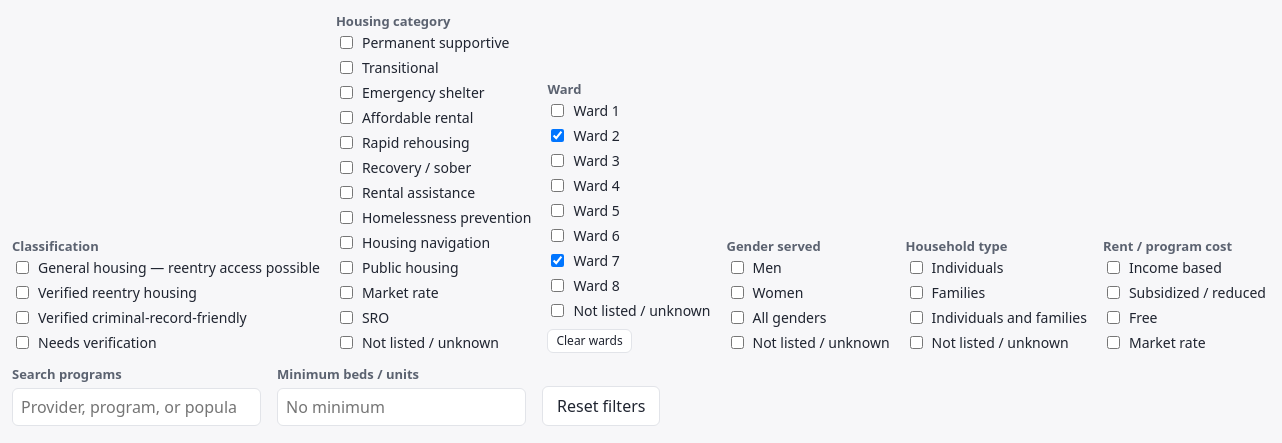
Test: FilterPanel › checkbox commits › clear-wards deselects every ward and commits the empty selection
The width and height of the screenshot is (1282, 443).
Step 1. Click the button "Clear wards" → (590, 340), box [547, 328, 632, 352]
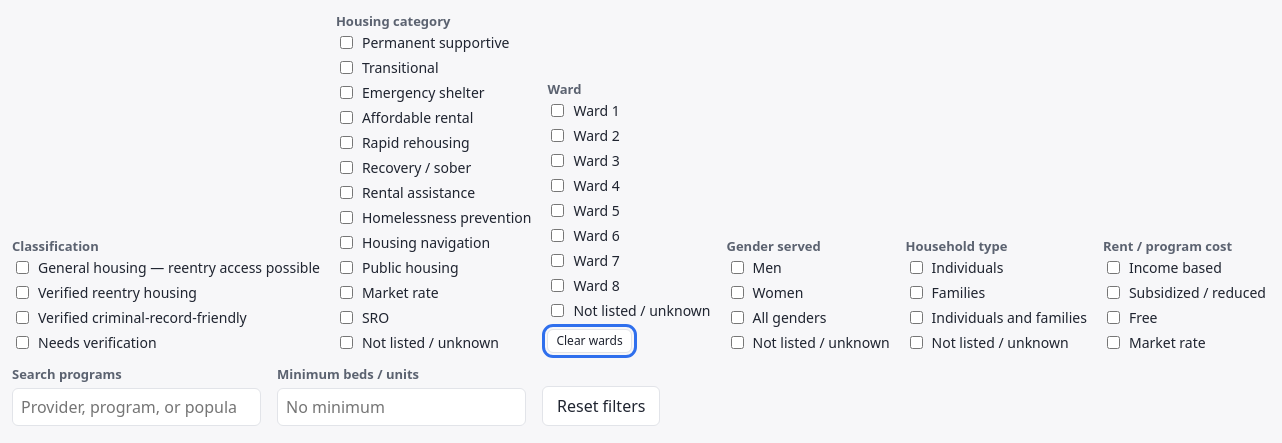
expect the checkbox labelled "Ward 2" is not checked: met, box [551, 128, 564, 142]
expect the checkbox labelled "Ward 7" is not checked: met, box [551, 254, 564, 266]
